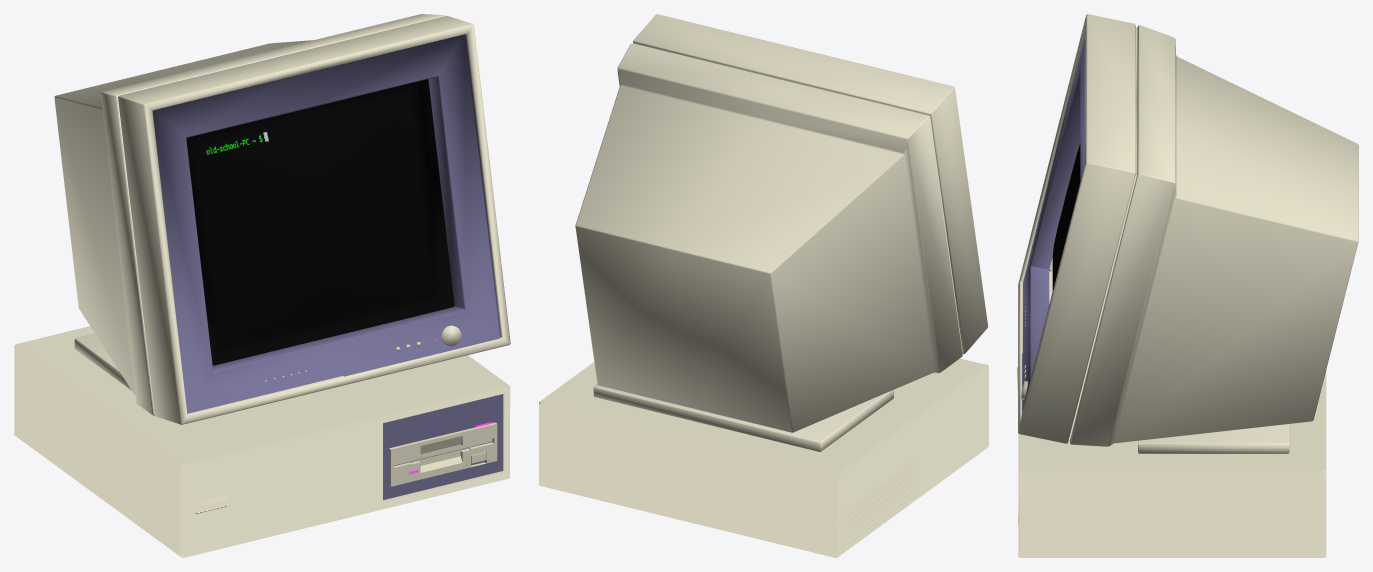
Rendered from hoop.gltf.
3 views of the same model, side by side, from view 1: azimuth 30°, elevation 25°; view 2: azimuth 150°, elevation 25°; view 3: azimuth 270°, elevation 25° (orthographic). The views are drawn at different scales.
Parts seen in each view (by area): view 1: Cube.003; view 2: Cube.003; view 3: Cube.003.
Boxes of the visible parts, left/top/right/bottom form: Cube.003: left=14, top=14, right=510, bottom=557; Cube.003: left=539, top=14, right=988, bottom=557; Cube.003: left=1017, top=14, right=1358, bottom=557.
Size of the model in its own units: 2.29 by 2.83 by 2.22.
4 materials, 1 textured.
